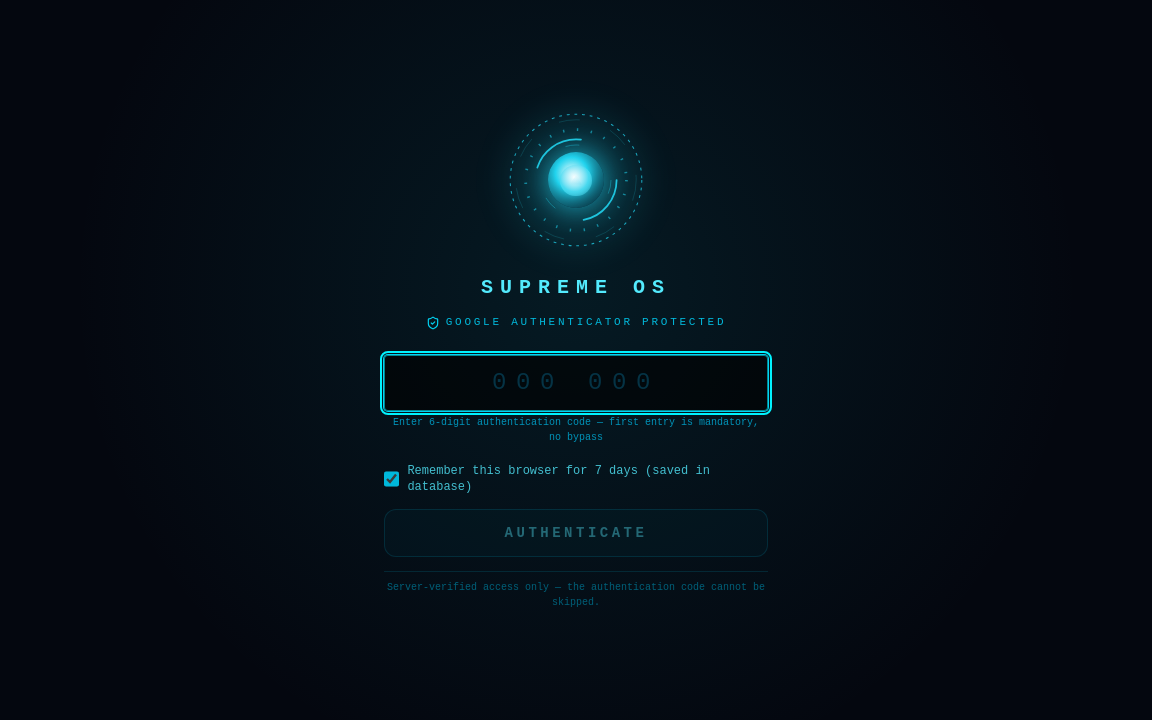
Test: JarvisAdminGate › surfaces a server-side error when TOTP is not configured (fail-closed)
Step 1. Type "111111" into the field with placeholder "000 000" → x=576, y=383, box [384,355,768,411]
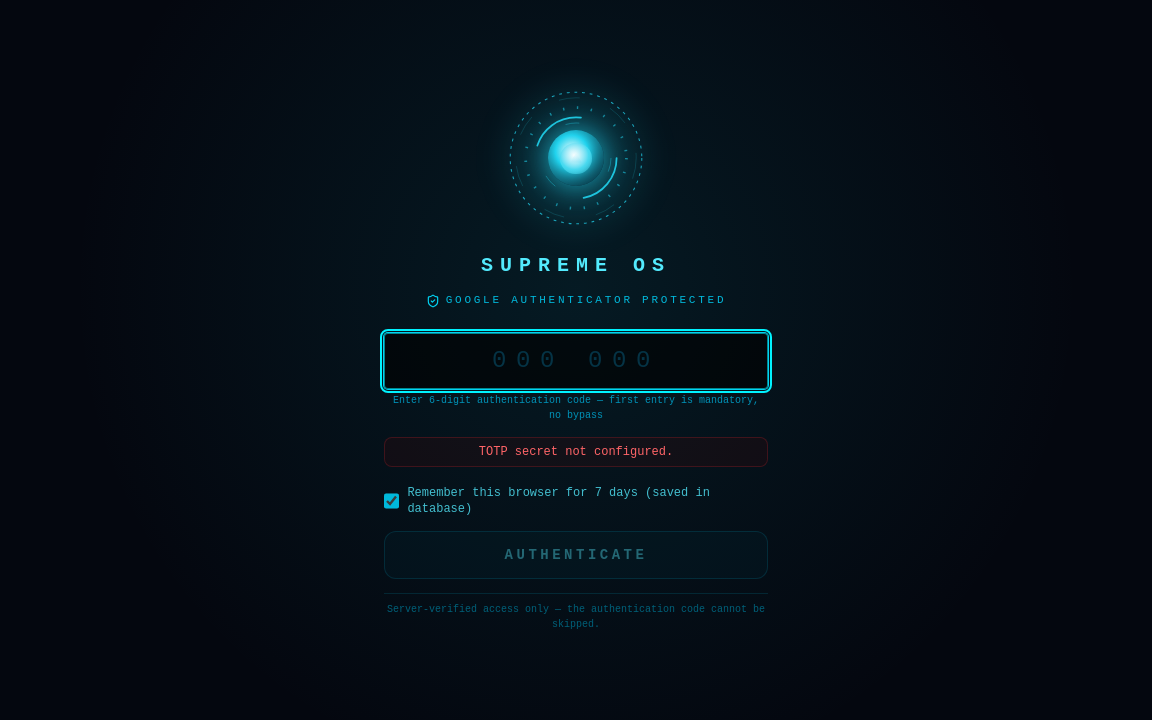
Now the text "TOTP secret not configured." is shown, box [384,437,768,467]
